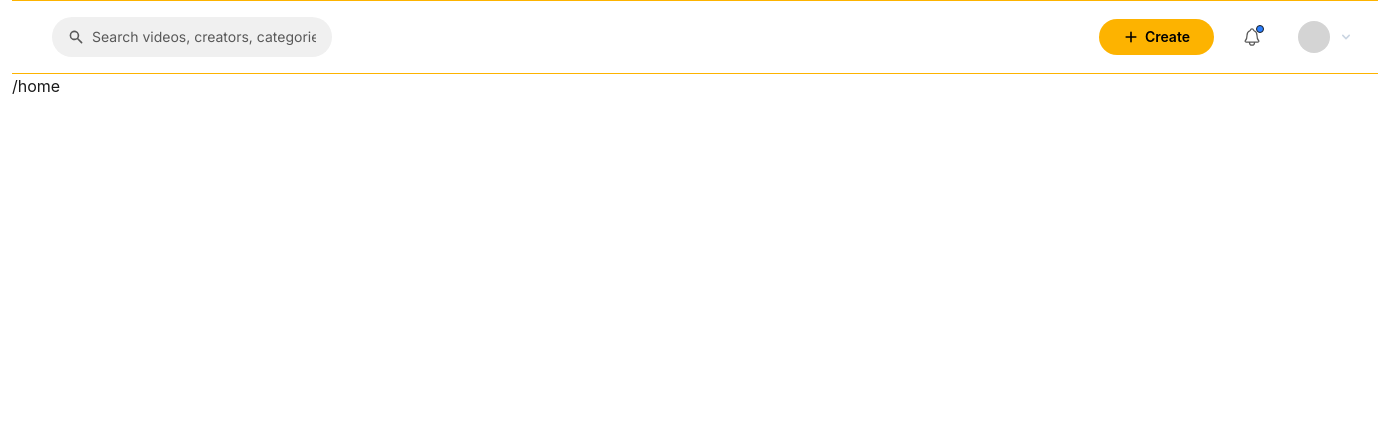
TopBar › loads lookup suggestions and navigates to search results
Type "  Jazz  " into the field named "search deymake".
click(204, 37); type("  Jazz  ")  # box [92,27,316,47]
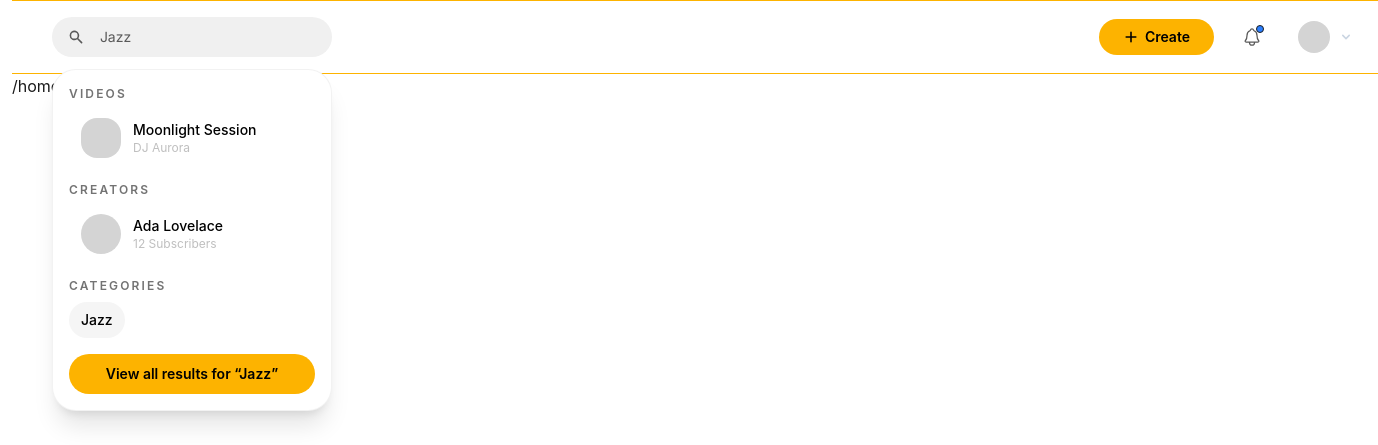
Now the text "Moonlight Session" is shown, box [133,120,256,140]
Now the text "Ada Lovelace" is shown, box [133,216,223,236]
Now the button "View all results for “Jazz”" is shown
Click the button "View all results for “Jazz”".
click(192, 374)  # box [69,354,315,394]
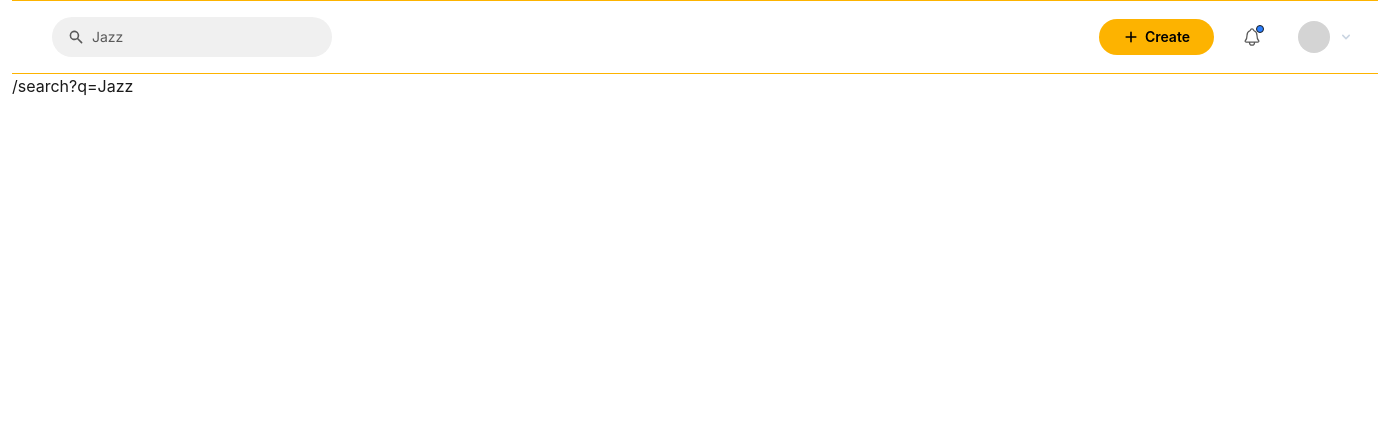
Now the text with test id "location" reads "/search?q=Jazz", box [12,76,133,96]
